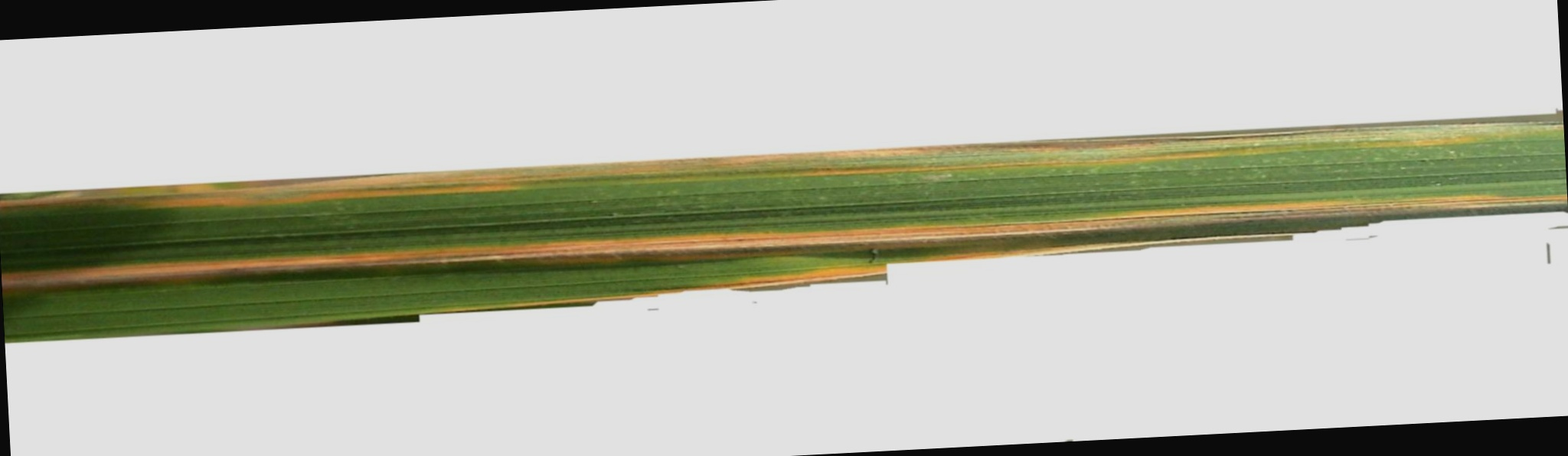Leaf_Blast: (9, 215, 1539, 286), (23, 129, 1536, 197)
